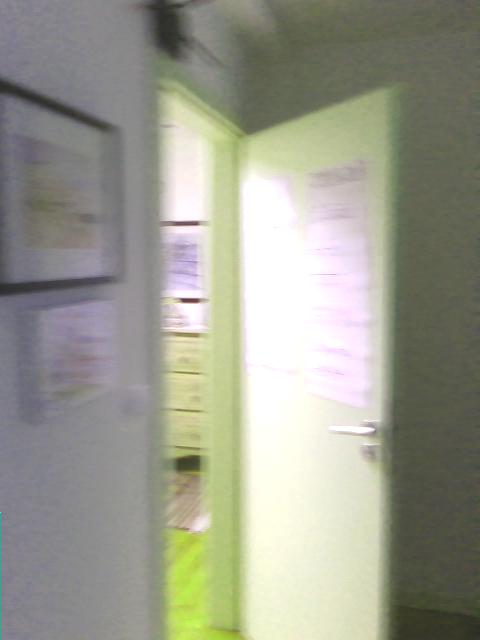semi_door: (146, 60, 405, 639)
